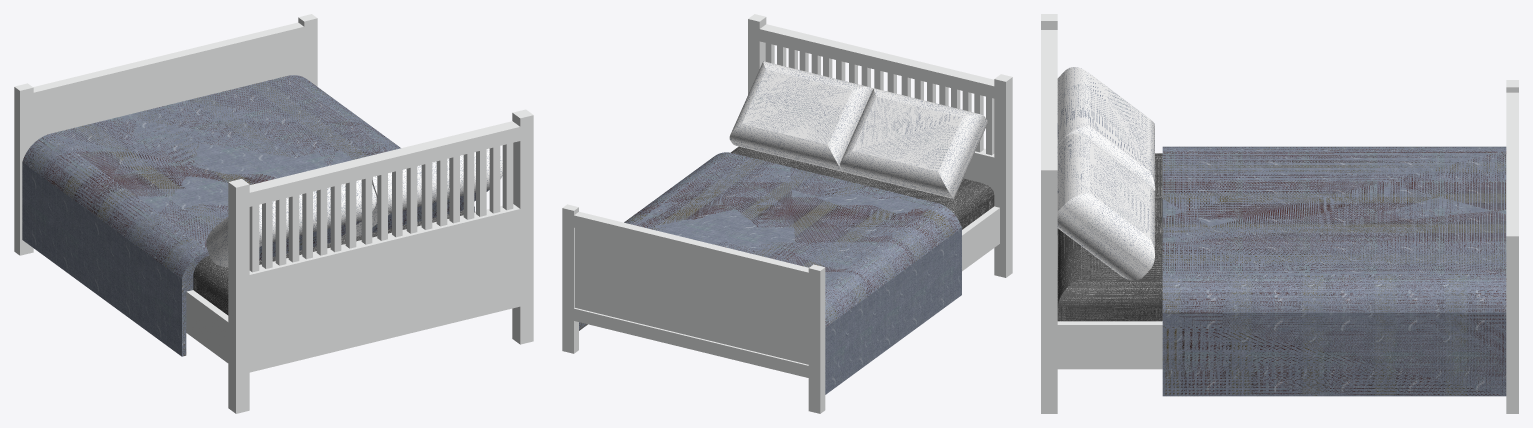
The model's file is bed.fbx.
3 renders of one model, left to right at view 1: azimuth 30°, elevation 25°; view 2: azimuth 150°, elevation 25°; view 3: azimuth 270°, elevation 25°, orthographic. The views are drawn at different scales.
Visible parts, largest first — view 1: Group3, Group1, Group2; view 2: Group1, Group3, Group2; view 3: Group1, Group3, Group2.
Part boxes in pixels (<box>): Group3: <box>14,14,533,413</box>; Group1: <box>22,75,502,356</box>; Group2: <box>193,210,475,315</box>; Group1: <box>579,61,987,394</box>; Group3: <box>562,14,1012,413</box>; Group2: <box>731,146,994,229</box>; Group1: <box>1057,67,1506,396</box>; Group3: <box>1041,14,1518,413</box>; Group2: <box>1057,153,1162,321</box>.
Size of the model in its own units: 1.68 by 1.22 by 2.17.
